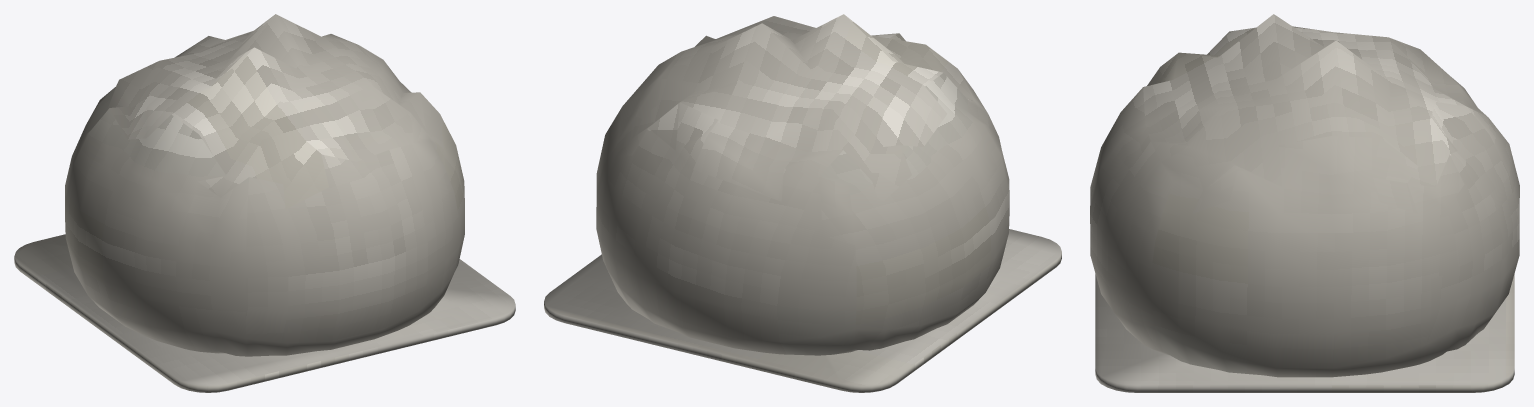
Rendered from nikuman.glb.
3 views of the same model, side by side, from view 1: azimuth 30°, elevation 25°; view 2: azimuth 150°, elevation 25°; view 3: azimuth 270°, elevation 25° (orthographic). The views are drawn at different scales.
Parts seen in each view (by area): view 1: prop_nikuman_felt; view 2: prop_nikuman_felt; view 3: prop_nikuman_felt.
Boxes of the visible parts, box(x1,y1,x2,y2) form: prop_nikuman_felt: box(14, 14, 515, 392); prop_nikuman_felt: box(544, 14, 1061, 392); prop_nikuman_felt: box(1090, 14, 1519, 392).
Bounding box in the file's own units: 0.1537 × 0.1095 × 0.1539.
Materials: 1 (1 with a texture image).
